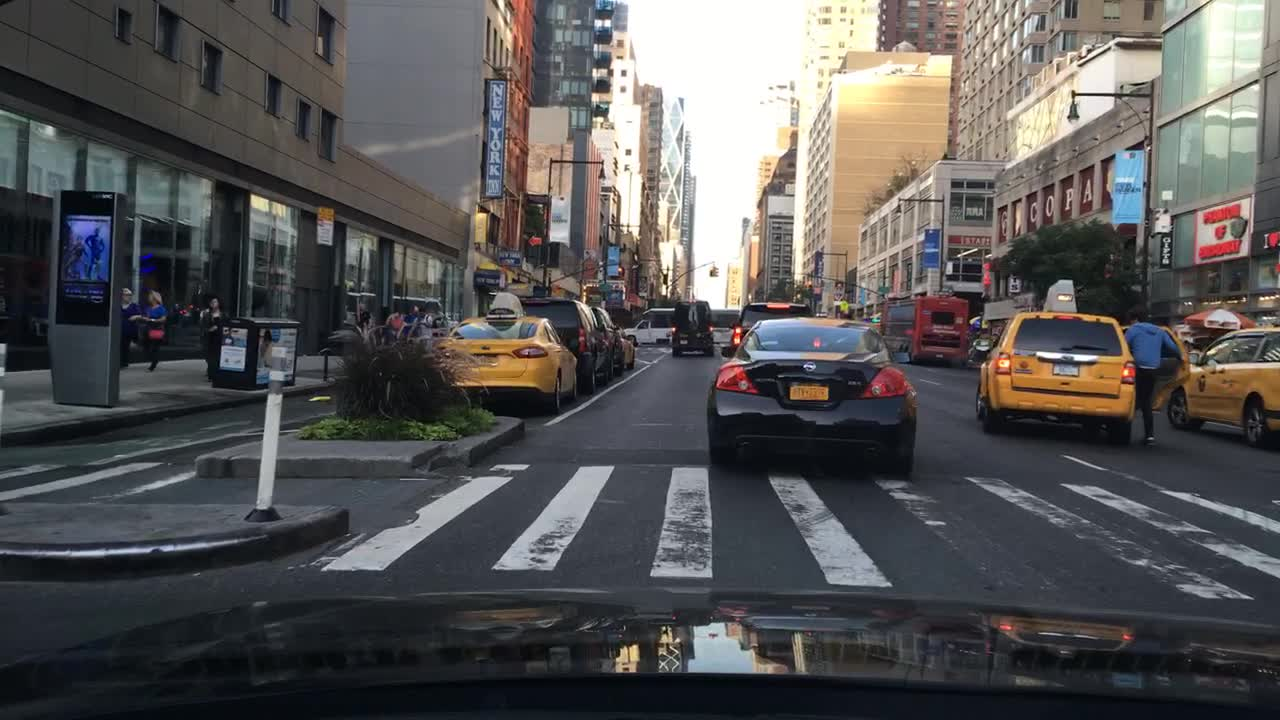bus: (878, 296, 969, 368), (626, 306, 741, 348)
car: (976, 277, 1190, 449), (704, 318, 918, 483), (436, 289, 579, 415), (1165, 324, 1279, 449), (520, 294, 608, 395), (728, 302, 814, 348), (591, 306, 625, 382), (667, 318, 716, 360), (616, 326, 638, 373)
person: (1124, 306, 1185, 448), (137, 289, 169, 375), (196, 294, 223, 380), (117, 287, 139, 368), (402, 301, 422, 340), (355, 307, 371, 334), (387, 307, 398, 340)
traffic sign: (316, 205, 333, 245), (837, 297, 849, 314), (874, 284, 891, 294)
